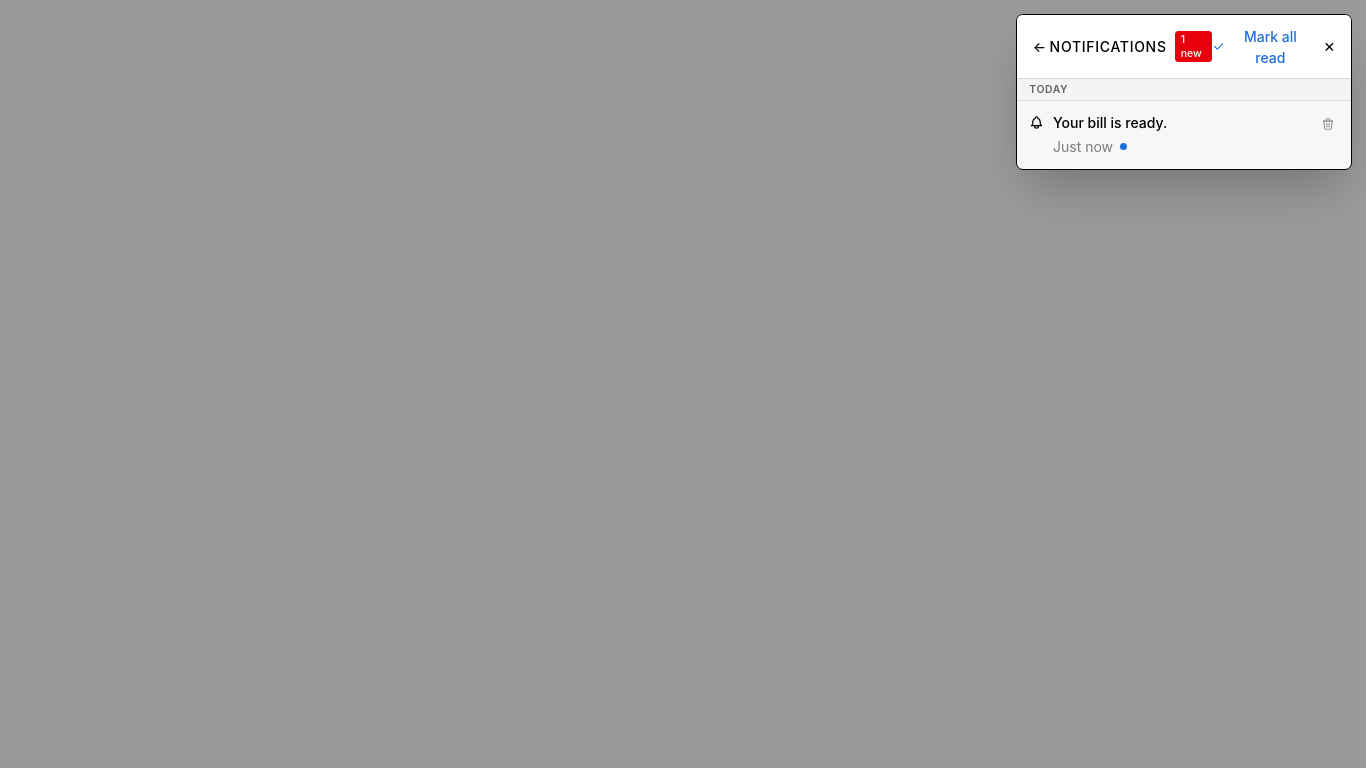
Test: NotificationCenter Component › allows marking all notifications as read
The image size is (1366, 768).
Click the button "Mark all read". click: (1262, 46)
box: [1212,26,1313,68]
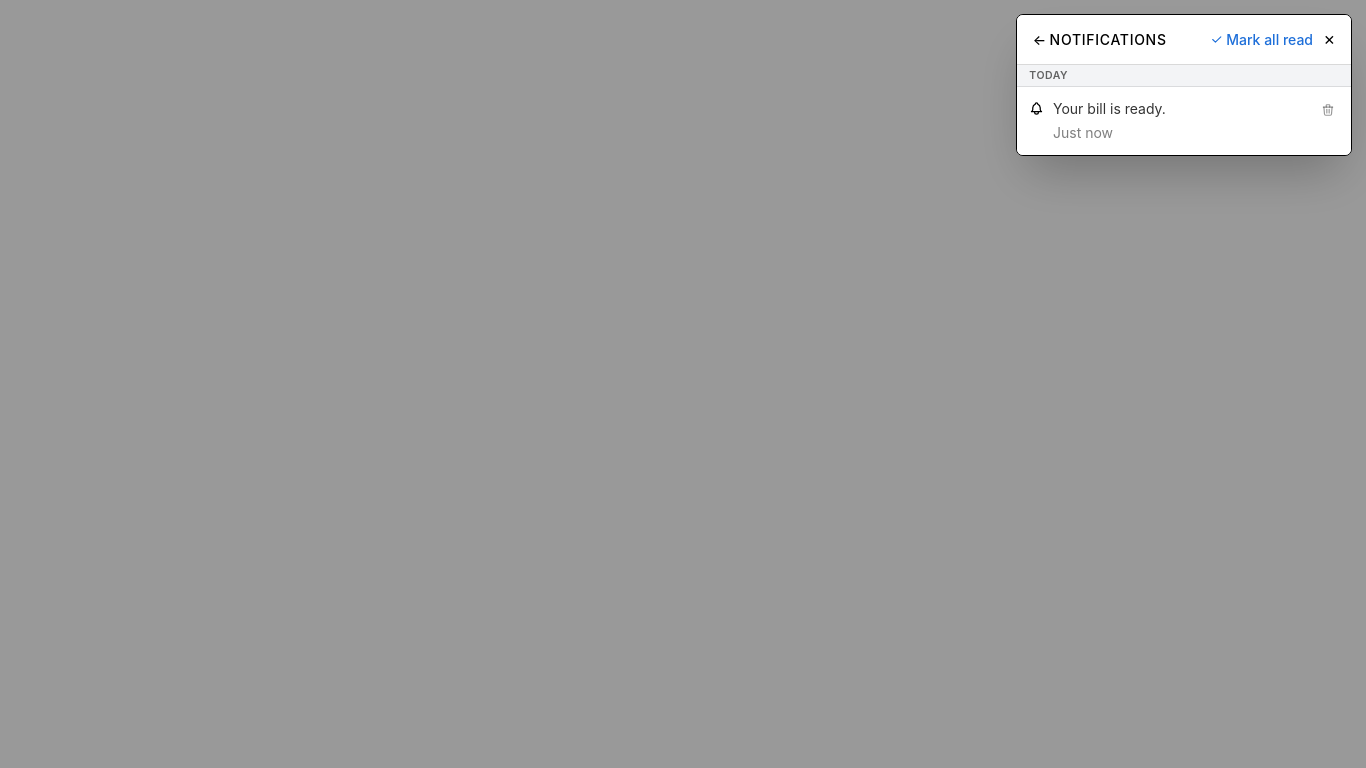
Result: the text "1 new" is gone
